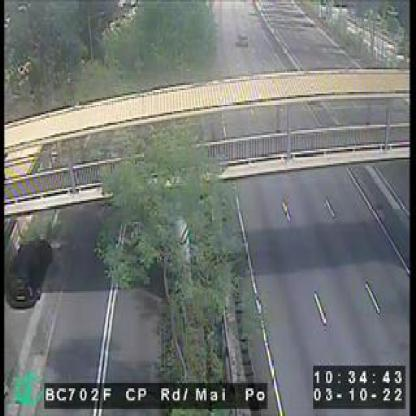Car: (5, 239, 51, 307)
